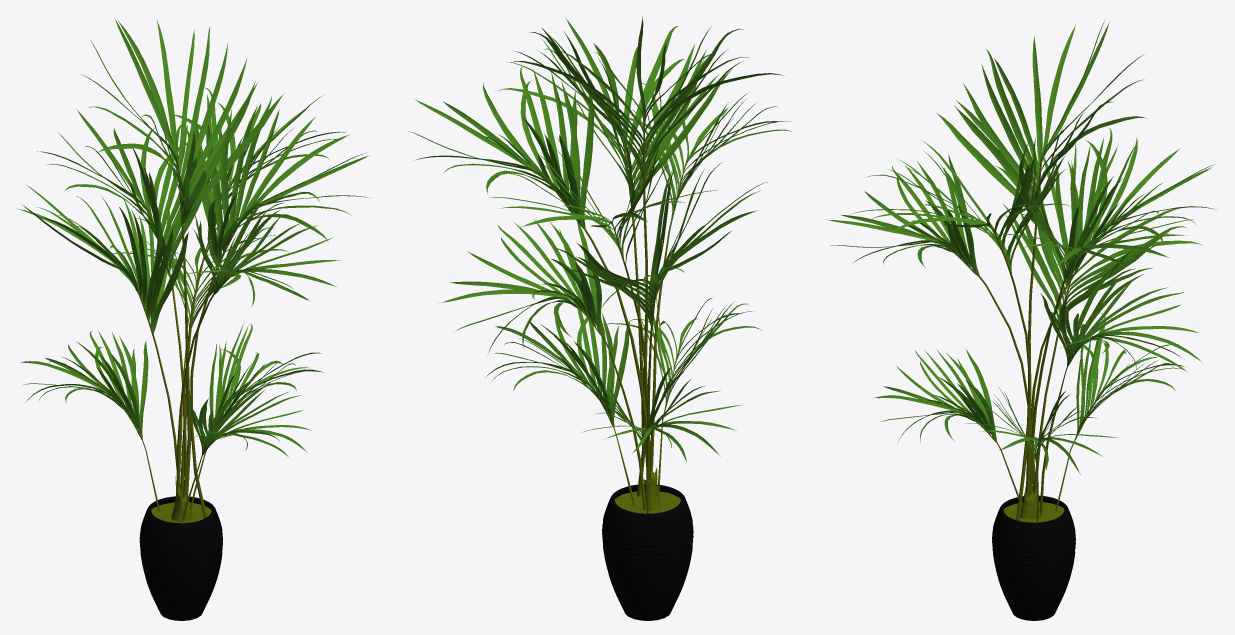
The model's file is flower.glb.
3 views of the same model, side by side, from view 1: azimuth 30°, elevation 25°; view 2: azimuth 150°, elevation 25°; view 3: azimuth 270°, elevation 25° (orthographic). The views are drawn at different scales.
Parts seen in each view (by area): view 1: Leaves, Pot, Stems; view 2: Leaves, Pot, Stems; view 3: Leaves, Pot, Stems.
Boxes of the visible parts, bbox=[...] form: Leaves: bbox=[17, 17, 368, 620]; Pot: bbox=[139, 496, 222, 620]; Stems: bbox=[121, 157, 247, 523]; Leaves: bbox=[409, 16, 791, 620]; Pot: bbox=[602, 484, 693, 620]; Stems: bbox=[556, 125, 686, 513]; Leaves: bbox=[826, 21, 1216, 620]; Pot: bbox=[992, 495, 1075, 620]; Stems: bbox=[945, 156, 1100, 522].
Size of the model in its own units: 0.8866 by 1.62 by 1.
